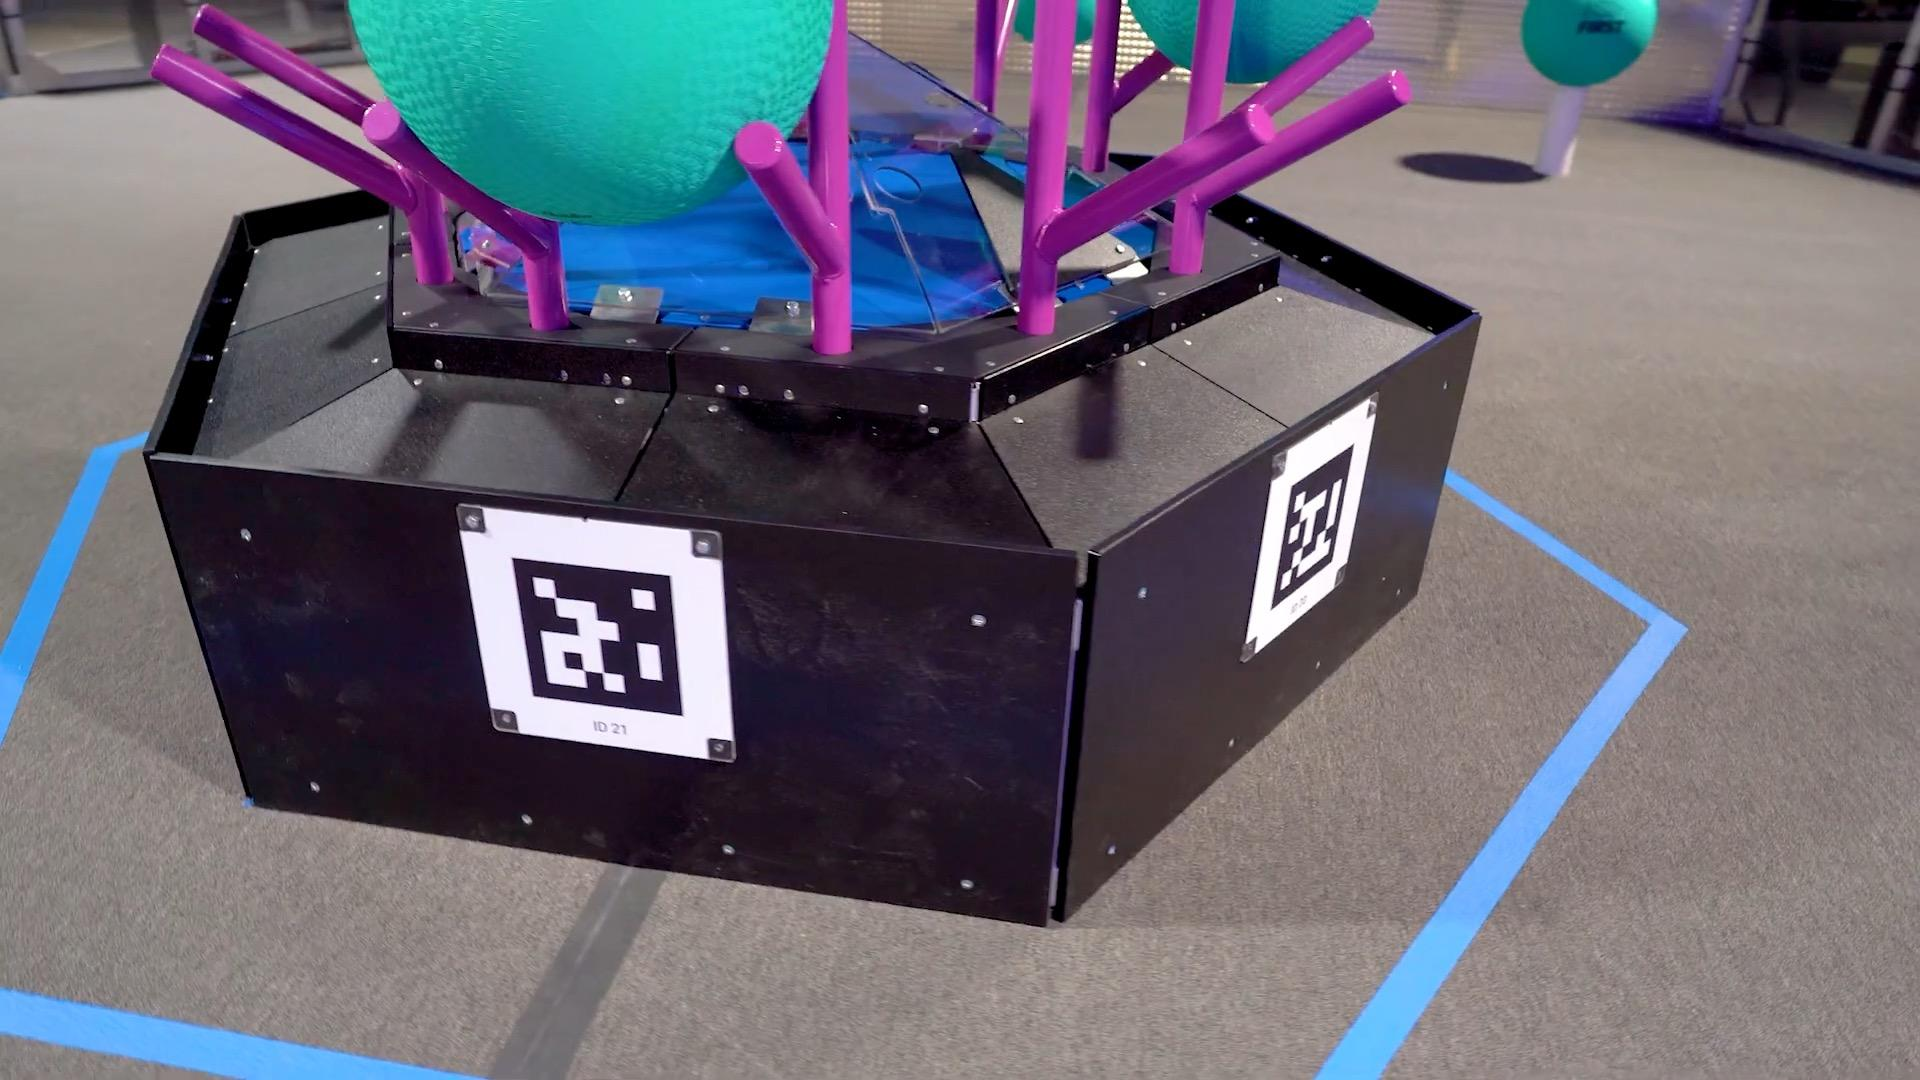ALGAE: (345, 0, 835, 228), (1127, 0, 1379, 84), (1519, 0, 1658, 87), (1010, 0, 1102, 46)
CORAL: (1534, 82, 1592, 175)
